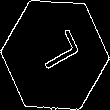L_SW: (29, 30, 81, 80)
